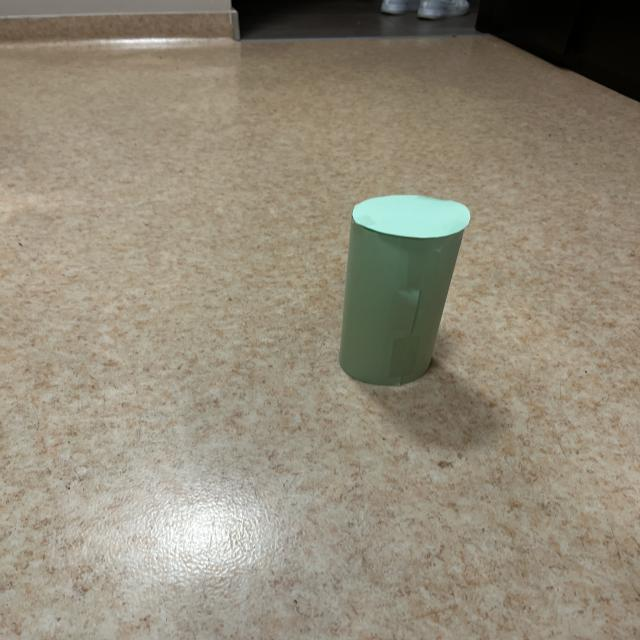meta: (339, 195, 470, 386)
